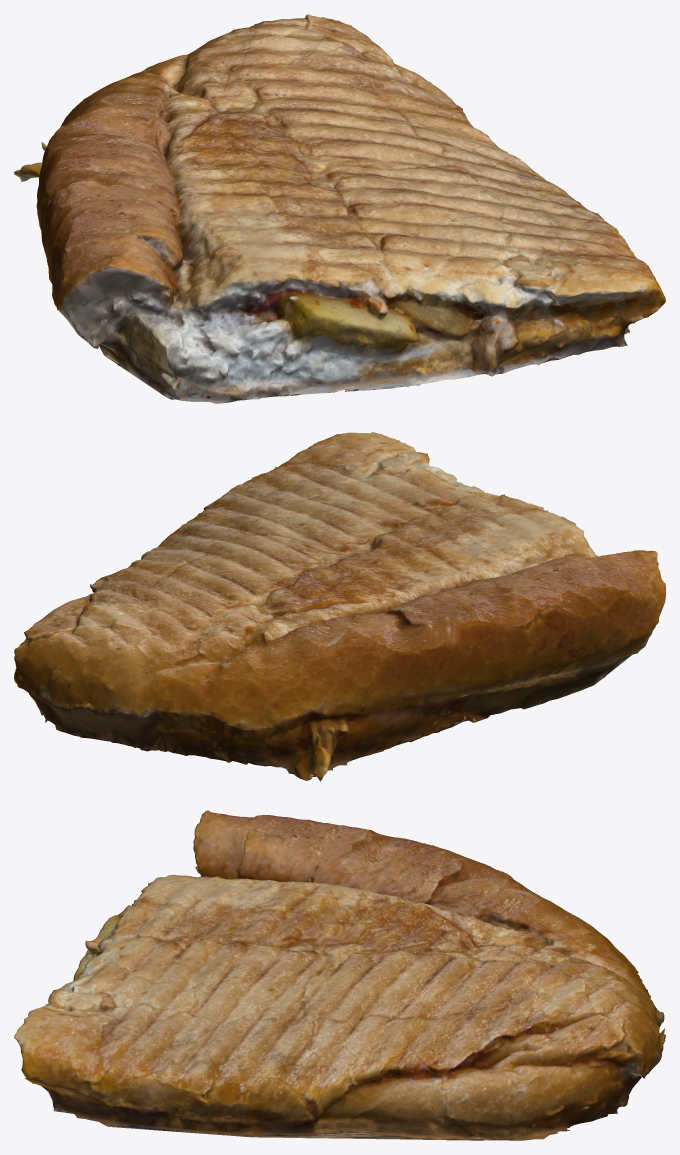
Rendered from tost_rs_lite.fbx.
3 renders of one model, top to bottom at view 1: azimuth 30°, elevation 25°; view 2: azimuth 150°, elevation 25°; view 3: azimuth 270°, elevation 25°, orthographic. The views are drawn at different scales.
Visible parts, largest first — view 1: tost_rs; view 2: tost_rs; view 3: tost_rs.
Boxes of the visible parts, x1=… form: tost_rs: x1=14, y1=14, x2=665, y2=403; tost_rs: x1=14, y1=432, x2=665, y2=781; tost_rs: x1=14, y1=810, x2=665, y2=1140.
Size of the model in its own units: 2897 by 759 by 3432.
Materials: 1 (1 with a texture image).
